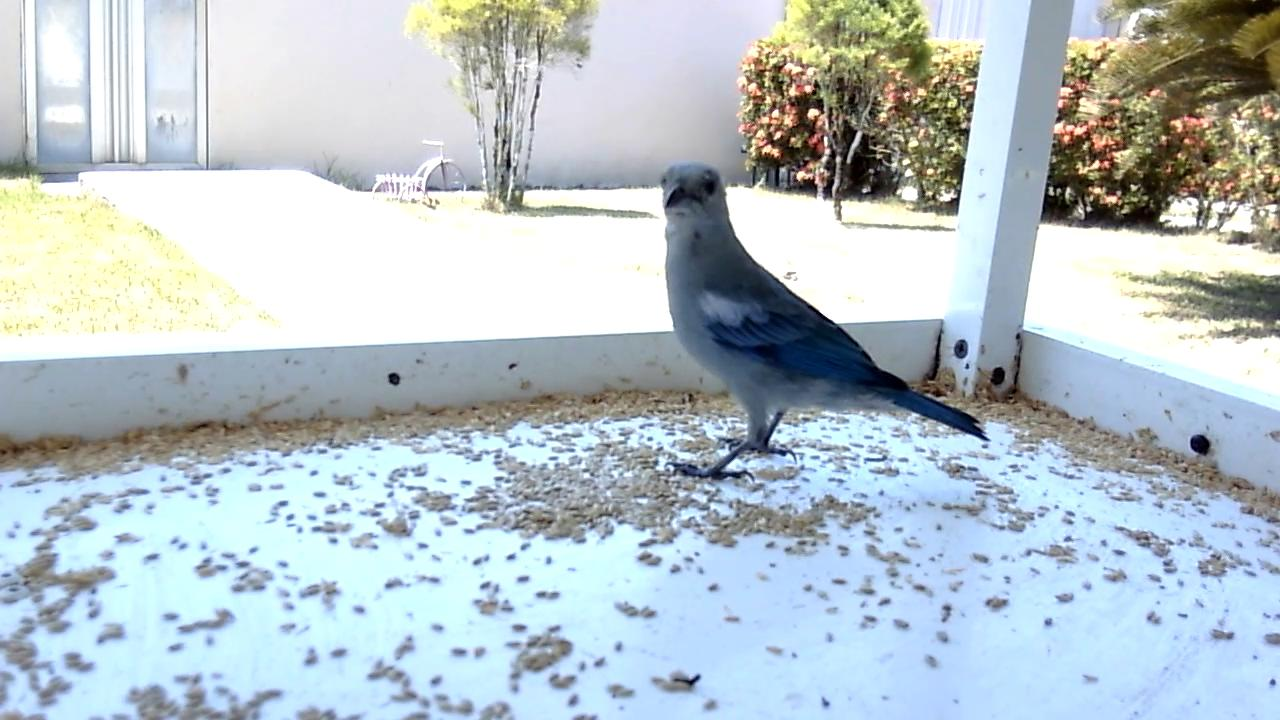sanhaco_da_amazonia: (646, 160, 991, 487)
